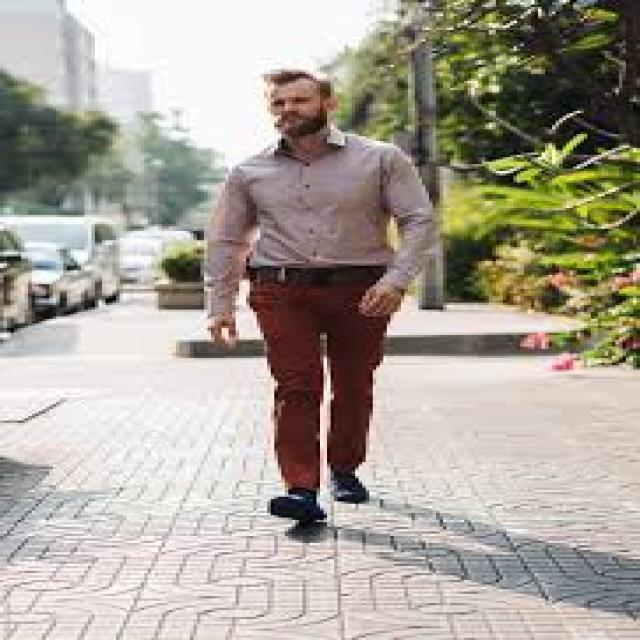nonfall: (159, 65, 468, 537)
